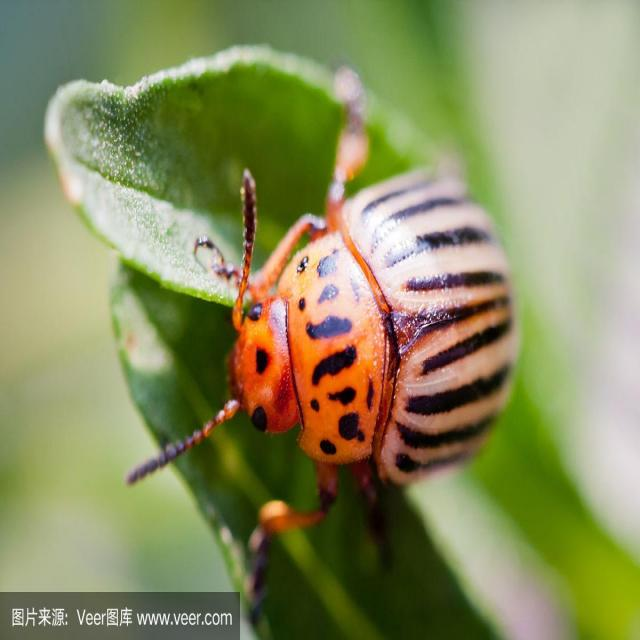ShuCaiHuaBanChong-Grown-: (242, 141, 546, 523)
